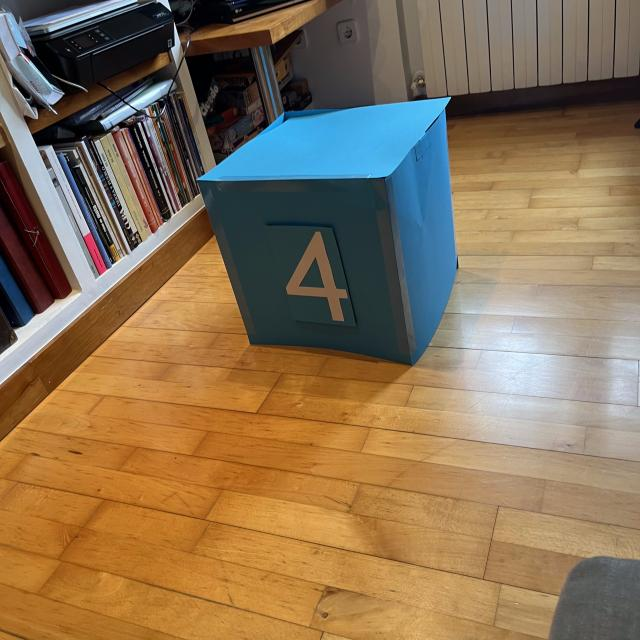box: (193, 93, 462, 369)
